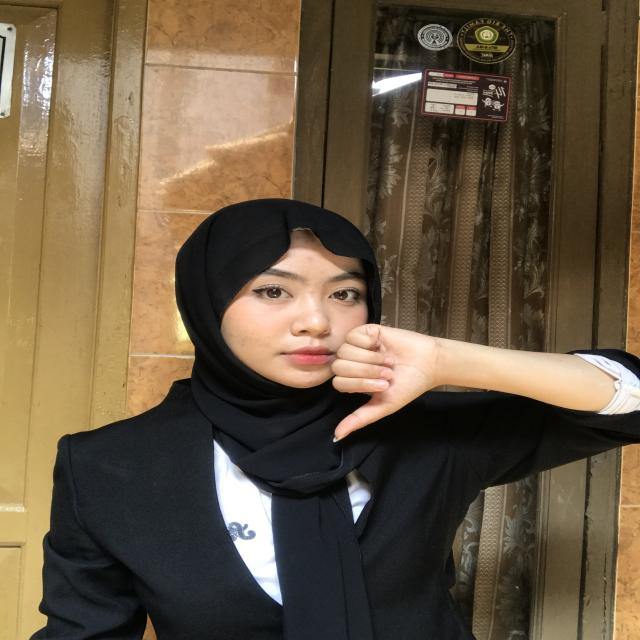sedih: (298, 286, 463, 458)
